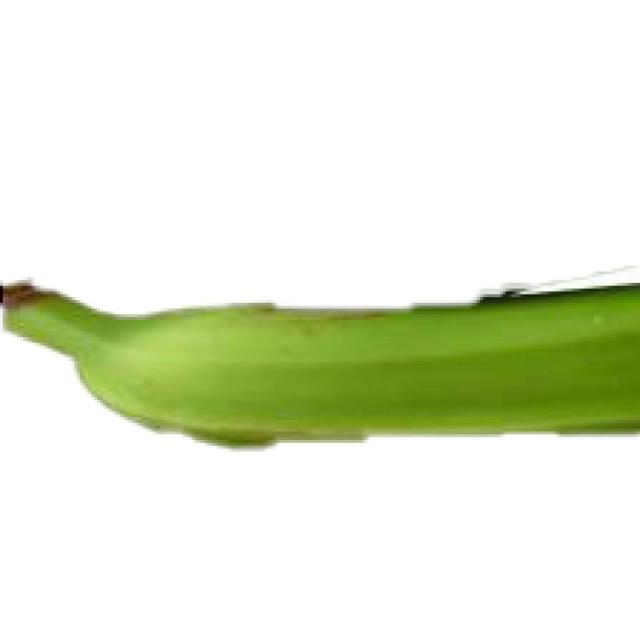fresh-banana: (0, 260, 637, 449)
